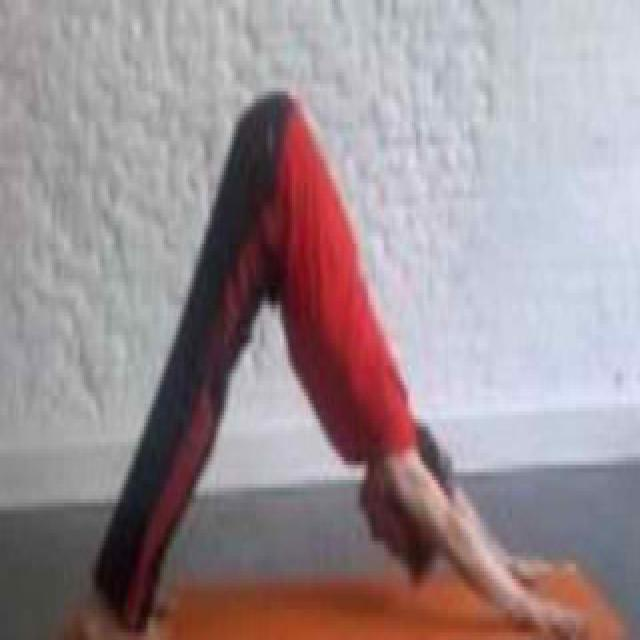yoga-pose downward: (78, 88, 588, 640)
